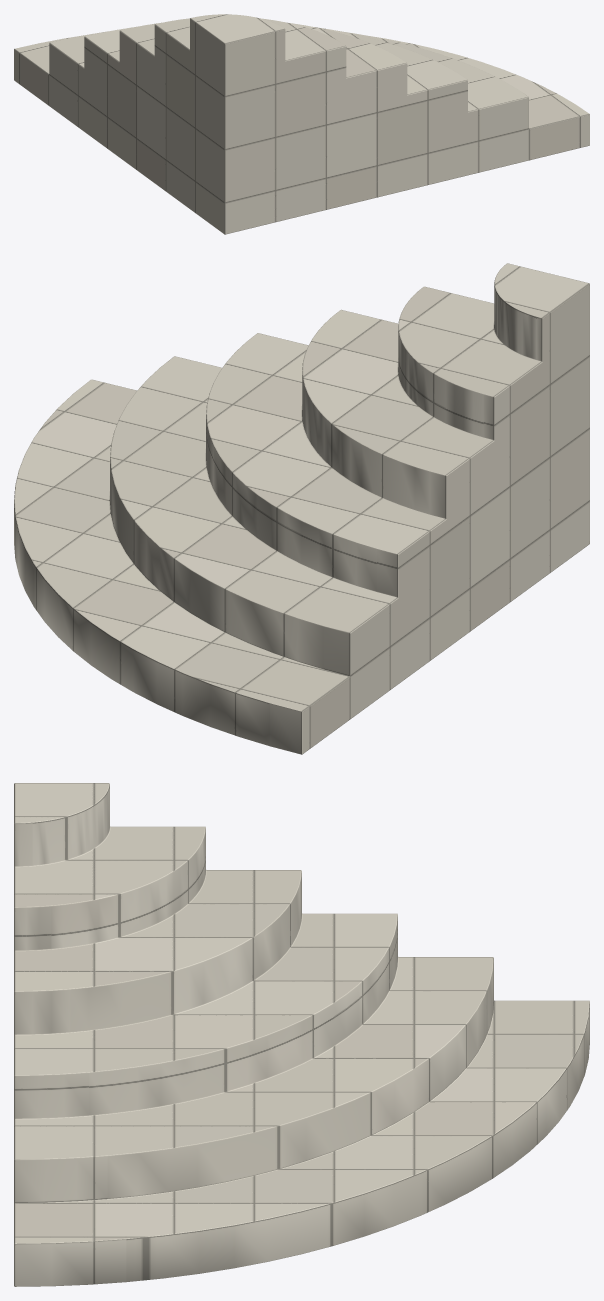
The model's file is MOD_29_Stairs_Corner.glb.
3 renders of one model, top to bottom at view 1: azimuth 30°, elevation 25°; view 2: azimuth 150°, elevation 25°; view 3: azimuth 270°, elevation 25°, orthographic. The views are drawn at different scales.
Parts seen in each view (by area): view 1: MOD_29_Stairs_Corner_Export; view 2: MOD_29_Stairs_Corner_Export; view 3: MOD_29_Stairs_Corner_Export.
Boxes of the visible parts, <box> form: MOD_29_Stairs_Corner_Export: <box>14,14,589,234</box>; MOD_29_Stairs_Corner_Export: <box>14,263,589,754</box>; MOD_29_Stairs_Corner_Export: <box>14,783,589,1286</box>.
Bounding box in the file's own units: 1.8 × 0.9 × 1.8.
Materials: 1 (1 with a texture image).
